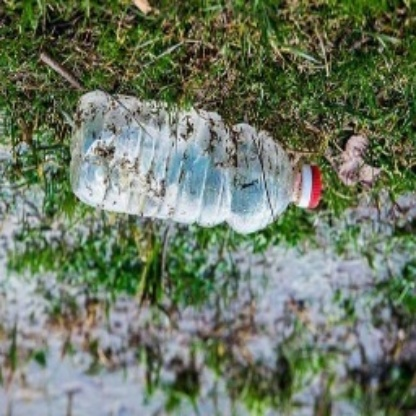bottle: (64, 88, 325, 234)
